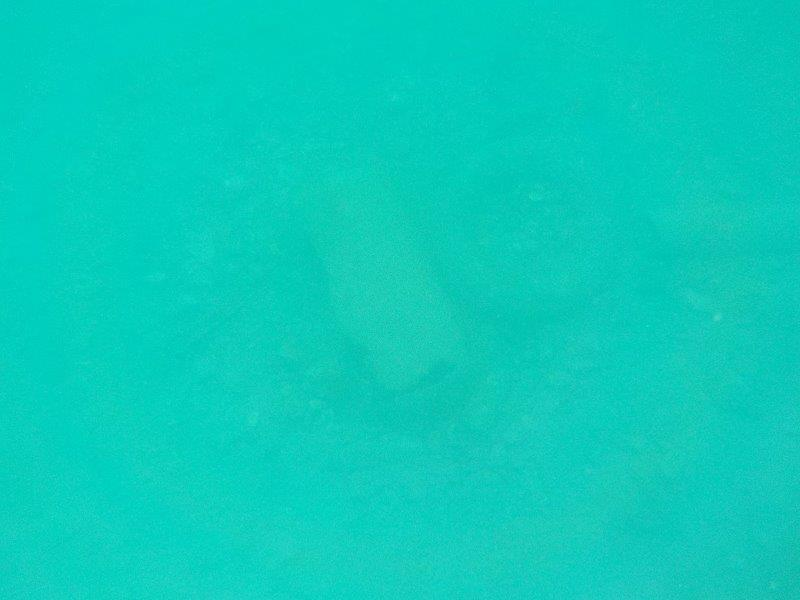bottle: (457, 351, 526, 442)
tire: (434, 132, 626, 324)
